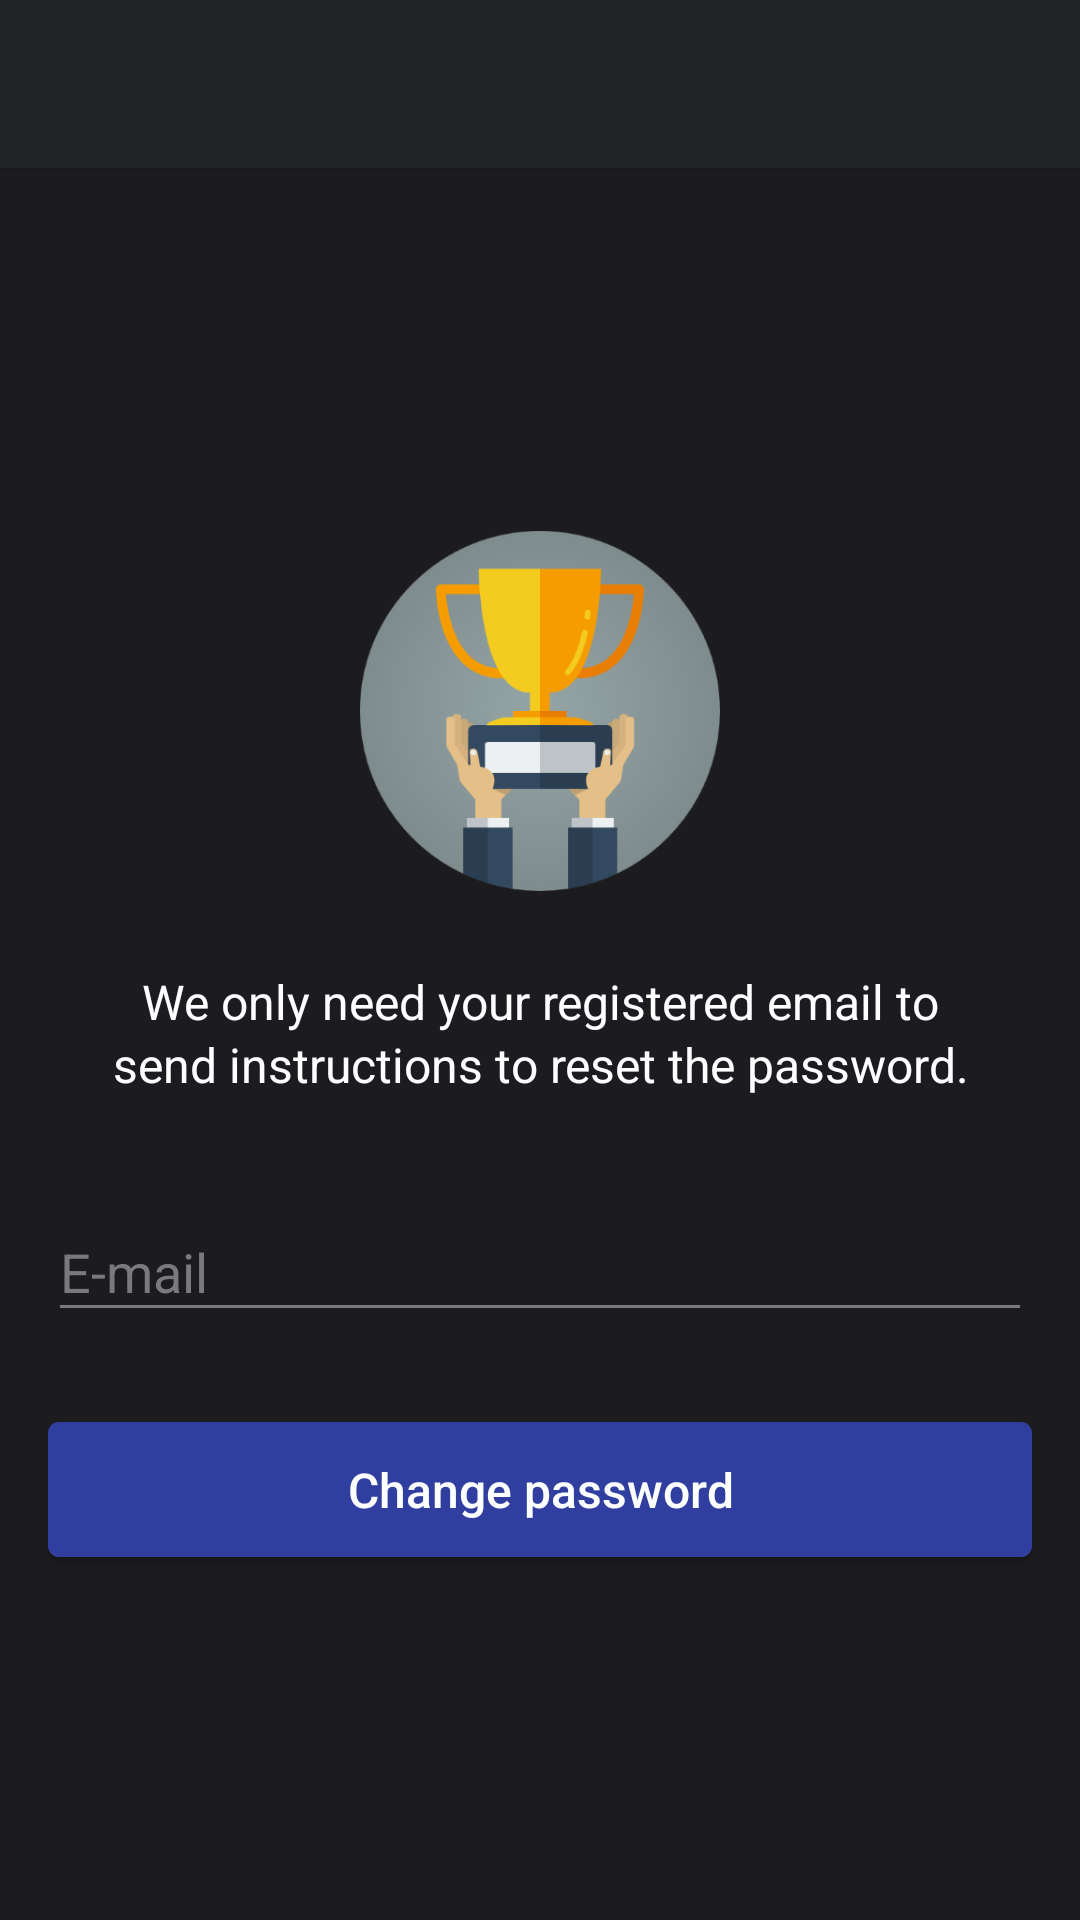

Screen size 1080w x 1920h. Icon name, then its center in pixels as point (x, y):
trophy: point (540, 711)
